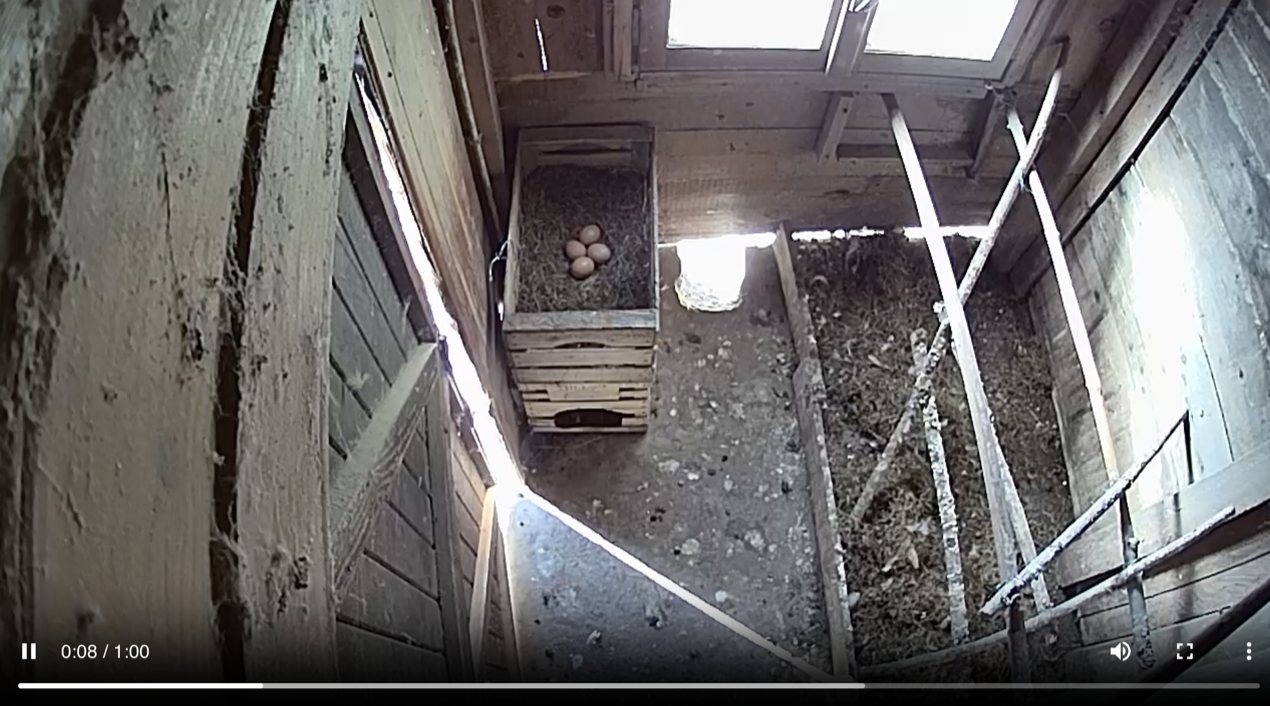egg: (587, 241, 614, 267), (569, 255, 596, 281), (560, 236, 587, 261), (578, 223, 602, 247)
